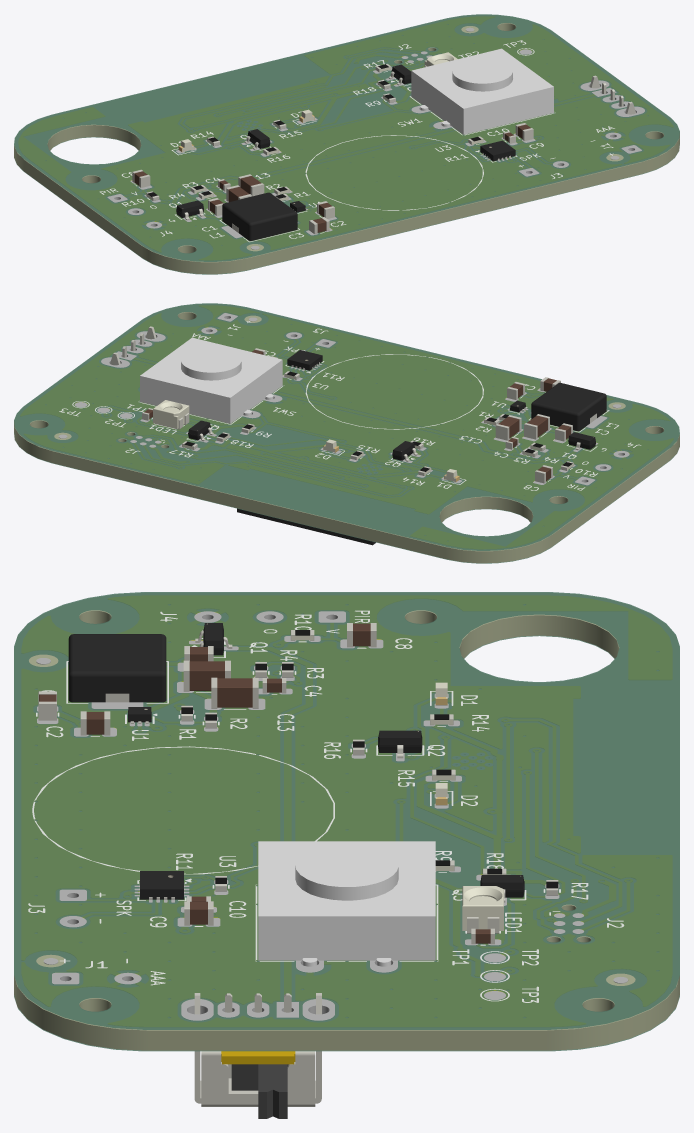
File: board.glb
The picture shows the model from 3 angles, top to bottom: view 1: azimuth 30°, elevation 25°; view 2: azimuth 150°, elevation 25°; view 3: azimuth 270°, elevation 25°; orthographic projection. The views are drawn at different scales.
Parts seen in each view (by area): view 1: =>[0:1:1:33], =>[0:1:1:28]_a0ebed, =>[0:1:1:35]_f4ab9a, =>[0:1:1:35]_8cb9ca, =>[0:1:1:23]_8b97d9, =>[0:1:1:23]_1c5f15, =>[0:1:1:35]_a6fed2, =>[0:1:1:23]_30332f, =>[0:1:1:35]_6c12fd, =>[0:1:1:23]_36a4b7, =>[0:1:1:35]_1bcf1f, =>[0:1:1:7]_12cd99 (+8 smaller); view 2: =>[0:1:1:33], =>[0:1:1:28]_a0ebed, =>[0:1:1:35]_f4ab9a, =>[0:1:1:35]_dafd59, =>[0:1:1:23]_8b97d9, =>[0:1:1:23]_6f25ae, =>[0:1:1:35]_a6fed2, =>[0:1:1:23]_30332f, =>[0:1:1:35]_70ae3e, =>[0:1:1:23]_36a4b7, =>[0:1:1:35]_1bcf1f, =>[0:1:1:7]_12cd99 (+8 smaller); view 3: =>[0:1:1:33], =>[0:1:1:28]_a0ebed, =>[0:1:1:35]_f4ab9a, =>[0:1:1:23]_8b97d9, =>[0:1:1:35]_6895aa, =>[0:1:1:23]_8a4512, =>[0:1:1:23]_36a4b7, =>[0:1:1:7]_12cd99, =>[0:1:1:35]_1bcf1f, =>[0:1:1:35]_191d18, =>[0:1:1:35]_b75242, =>[0:1:1:28]_c75892 (+11 smaller).
Boxes of the visible parts, box(x1,y1,x2,y2) form: =>[0:1:1:33]: box(14, 14, 679, 261); =>[0:1:1:28]_a0ebed: box(19, 17, 672, 259); =>[0:1:1:35]_f4ab9a: box(14, 15, 679, 262); =>[0:1:1:35]_8cb9ca: box(249, 162, 640, 269); =>[0:1:1:23]_8b97d9: box(412, 48, 553, 108); =>[0:1:1:23]_1c5f15: box(463, 87, 553, 134); =>[0:1:1:35]_a6fed2: box(24, 160, 141, 257); =>[0:1:1:23]_30332f: box(411, 71, 463, 134); =>[0:1:1:35]_6c12fd: box(142, 246, 248, 274); =>[0:1:1:23]_36a4b7: box(452, 58, 512, 83); =>[0:1:1:35]_1bcf1f: box(47, 125, 141, 150); =>[0:1:1:7]_12cd99: box(225, 193, 294, 222); =>[0:1:1:33]: box(14, 303, 679, 550); =>[0:1:1:28]_a0ebed: box(21, 306, 672, 548); =>[0:1:1:35]_f4ab9a: box(14, 304, 679, 551); =>[0:1:1:35]_dafd59: box(53, 451, 444, 558); =>[0:1:1:23]_8b97d9: box(140, 337, 281, 397); =>[0:1:1:23]_6f25ae: box(140, 376, 230, 423); =>[0:1:1:35]_a6fed2: box(552, 449, 669, 546); =>[0:1:1:23]_30332f: box(230, 360, 282, 423); =>[0:1:1:35]_70ae3e: box(445, 535, 551, 563); =>[0:1:1:23]_36a4b7: box(181, 347, 241, 372); =>[0:1:1:35]_1bcf1f: box(439, 497, 533, 522); =>[0:1:1:7]_12cd99: box(534, 383, 603, 412); =>[0:1:1:33]: box(14, 592, 679, 1029); =>[0:1:1:28]_a0ebed: box(22, 596, 671, 1026); =>[0:1:1:35]_f4ab9a: box(14, 593, 679, 1030); =>[0:1:1:23]_8b97d9: box(258, 841, 435, 916); =>[0:1:1:35]_6895aa: box(147, 1030, 546, 1050); =>[0:1:1:23]_8a4512: box(258, 916, 435, 960); =>[0:1:1:23]_36a4b7: box(295, 843, 398, 886); =>[0:1:1:7]_12cd99: box(73, 634, 161, 670); =>[0:1:1:35]_1bcf1f: box(459, 615, 618, 658); =>[0:1:1:35]_191d18: box(546, 976, 679, 1050); =>[0:1:1:35]_b75242: box(14, 976, 147, 1050); =>[0:1:1:28]_c75892: box(505, 723, 548, 868).
Size of the model in its own units: 0.073 by 0.0107 by 0.045.
